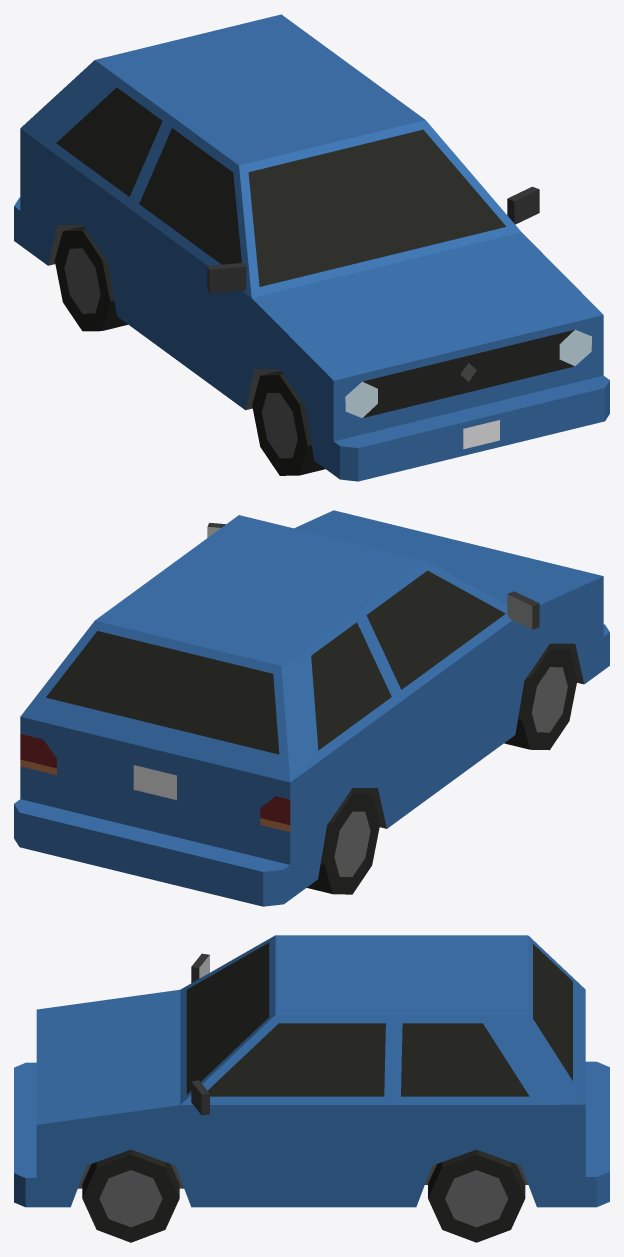
The model's file is Veh_Coupe_02_Blue.obj.
The picture shows the model from 3 angles, top to bottom: view 1: azimuth 30°, elevation 25°; view 2: azimuth 150°, elevation 25°; view 3: azimuth 270°, elevation 25°; orthographic projection. The views are drawn at different scales.
Bounding box in the file's own units: 1.12 × 0.78 × 2.01.
